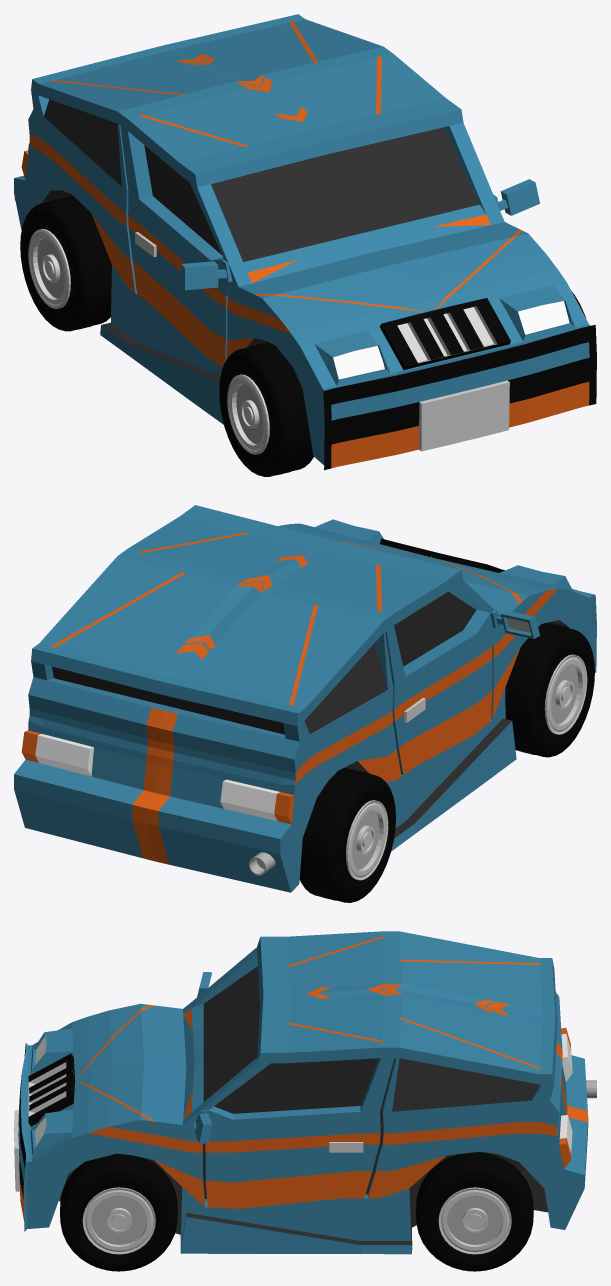
The picture shows the model from 3 angles, top to bottom: view 1: azimuth 30°, elevation 25°; view 2: azimuth 150°, elevation 25°; view 3: azimuth 270°, elevation 25°; orthographic projection. The views are drawn at different scales.
Parts seen in each view (by area): view 1: BODY45A, WHEEL.004, WHEEL.001; view 2: BODY45A, WHEEL.004, WHEEL.001; view 3: BODY45A, WHEEL.002, WHEEL.003.
Part boxes in pixels (x1,y1,x2,y2): BODY45A: (14, 14, 596, 470); WHEEL.004: (20, 196, 111, 331); WHEEL.001: (219, 342, 313, 476); BODY45A: (14, 505, 596, 892); WHEEL.004: (299, 768, 395, 902); WHEEL.001: (505, 623, 594, 757); BODY45A: (14, 931, 588, 1254); WHEEL.002: (416, 1152, 533, 1271); WHEEL.003: (60, 1153, 177, 1271).
Bounding box in the file's own units: 131 × 85.08 × 208.
